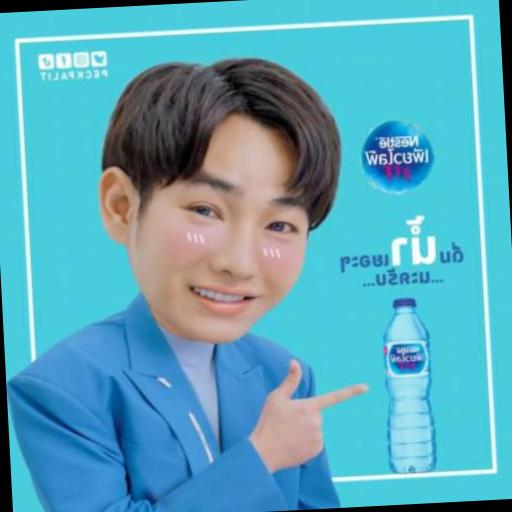Coca: (378, 296, 436, 478)
